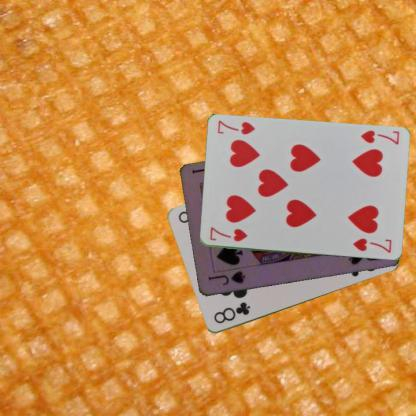7h: (207, 224, 248, 243), (358, 128, 400, 146)
8c: (211, 300, 251, 326)
Js: (205, 268, 246, 287)
